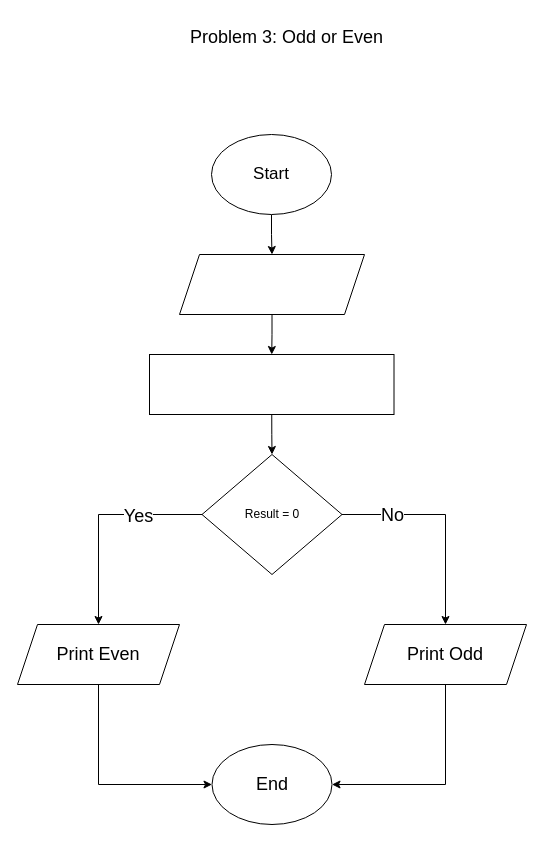
The diagram is 544 pixels wide and 842 high, and some of its shapes have lost their labels. The shapes that lost their labels are listed below. From the top down, each one's centre as x and y in pixels, then its label:
At point (271, 284): "Read Number".
At point (271, 384): "Result = Number Mod 2".
